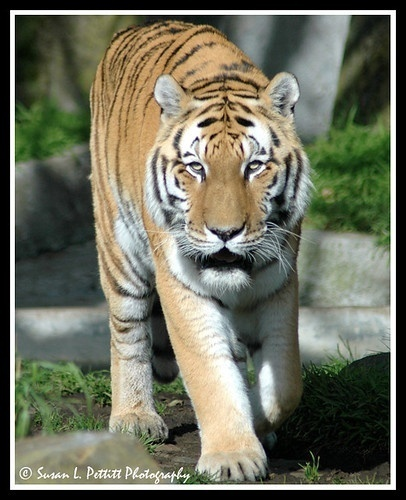tigre: (87, 18, 320, 484)
